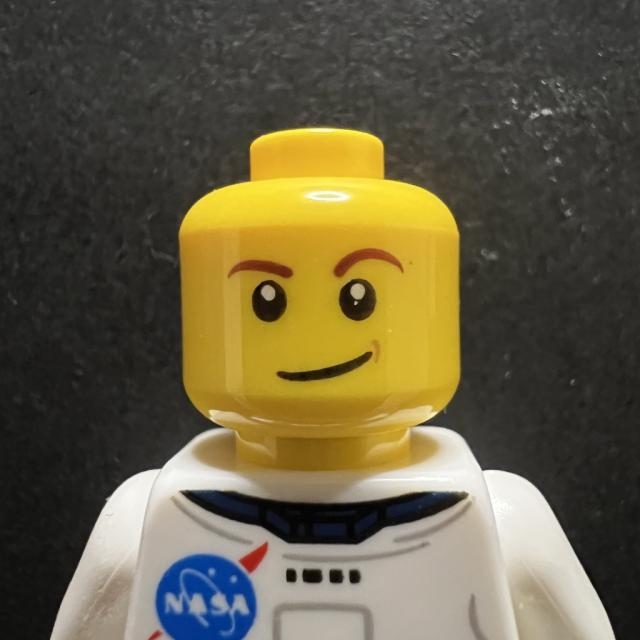alien: (150, 101, 506, 487)
